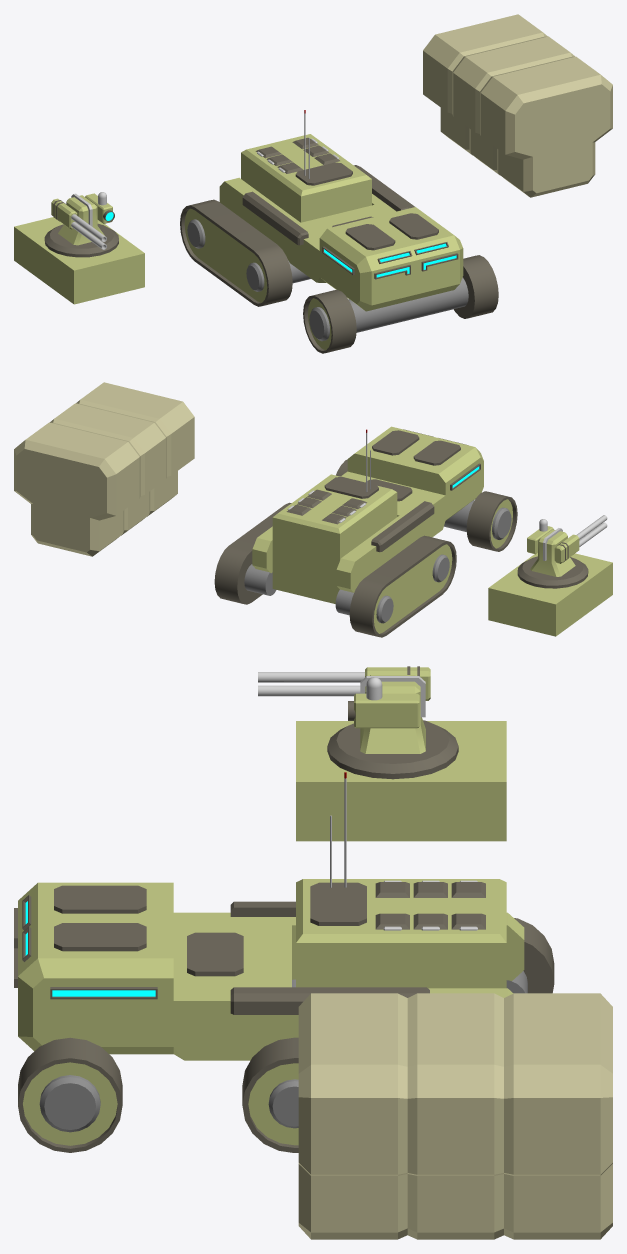
File: SMV Colored.fbx
The picture shows the model from 3 angles, top to bottom: view 1: azimuth 30°, elevation 25°; view 2: azimuth 150°, elevation 25°; view 3: azimuth 270°, elevation 25°; orthographic projection. The views are drawn at different scales.
Visible parts, largest first — view 1: pCube2, pCube1, polySurface2, pCube3, pCube4, pCylinder10, pCylinder13, pCylinder1, pCylinder5, pCube26, pCube5, pCube28 (+4 smaller); view 2: pCube2, pCube1, pCube4, polySurface2, pCube3, polySurface1, pCylinder13, pCylinder5, pCube26, pCube5, pCylinder10, pCube28 (+7 smaller); view 3: pCube2, pCube1, pCube3, pCube4, pCylinder1, polySurface1, pCylinder5, pCube25, pCylinder10, pCube18, pCube17, pCube27 (+9 smaller).
Part boxes in pixels (x1,y1,x2,y2): pCube2: (423,14,612,197); pCube1: (219,177,463,311); polySurface2: (180,199,292,306); pCube3: (14,217,144,304); pCube4: (241,134,371,222); pCylinder10: (309,277,468,341); pCylinder13: (303,289,356,353); pCylinder1: (454,255,498,318); pCylinder5: (44,223,118,257); pCube26: (242,191,308,245); pCube5: (58,195,104,245); pCube28: (295,162,352,185); pCube2: (14,382,194,556); pCube1: (252,426,483,592); pCube4: (272,474,397,603); polySurface2: (349,535,456,637); pCube3: (488,553,612,636); polySurface1: (214,502,291,604); pCylinder13: (466,491,517,551); pCylinder5: (517,556,588,588); pCube26: (371,501,434,552); pCube5: (530,529,575,576); pCylinder10: (444,500,511,539); pCube28: (324,476,378,498); pCube2: (298,993,612,1239); pCube1: (18,882,524,1060); pCube3: (296,721,506,841); pCube4: (296,879,506,988); pCylinder1: (18,1037,122,1152); polySurface1: (242,1037,298,1152); pCylinder5: (327,720,458,779); pCube25: (230,987,429,1014); pCylinder10: (39,1075,100,1132); pCube18: (54,885,146,913); pCube17: (54,923,146,951); pCube27: (187,932,243,976).
Bounding box in the file's own units: 16.75 × 4.95 × 9.12.
